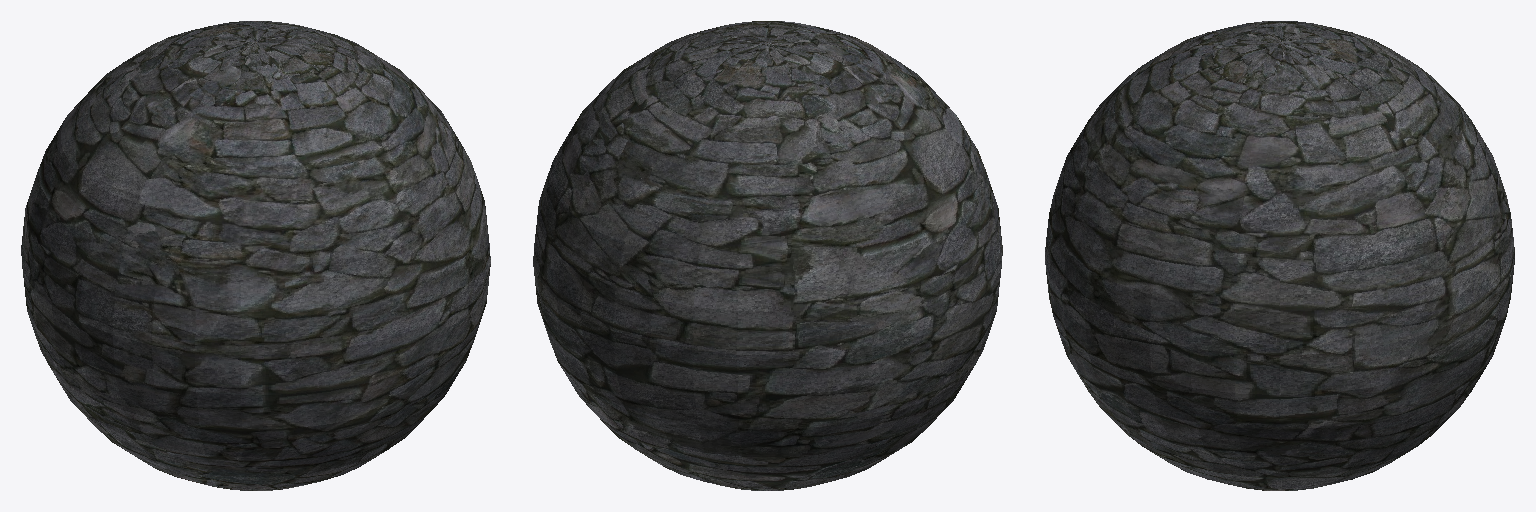
The picture shows the model from 3 angles: view 1: azimuth 30°, elevation 25°; view 2: azimuth 150°, elevation 25°; view 3: azimuth 270°, elevation 25°; orthographic projection.
Parts seen in each view (by area): view 1: Sphere; view 2: Sphere; view 3: Sphere.
Boxes of the visible parts, x1=… form: Sphere: x1=21, y1=21, x2=490, y2=490; Sphere: x1=533, y1=21, x2=1002, y2=490; Sphere: x1=1045, y1=21, x2=1514, y2=490.
Bounding box in the file's own units: 2 × 2 × 2.
1 materials, 1 textured.